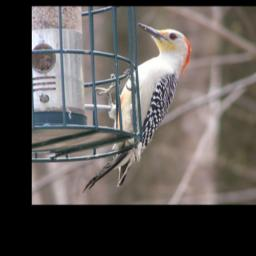Woodpecker: (82, 20, 194, 194)
